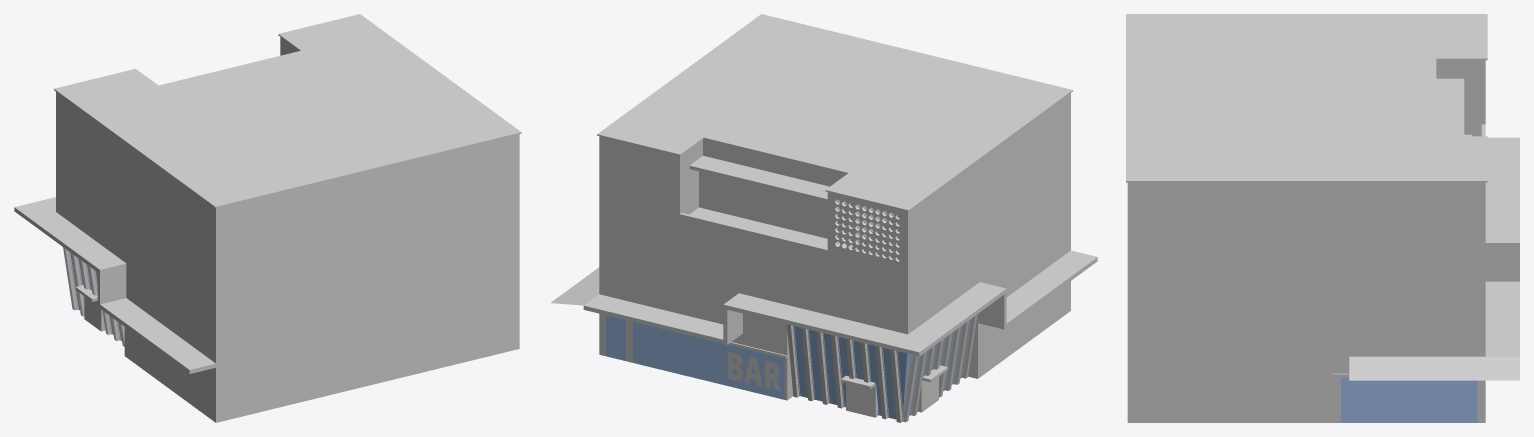
Rendered from bs_store_medium_05.glb.
The picture shows the model from 3 angles, left to right: view 1: azimuth 30°, elevation 25°; view 2: azimuth 150°, elevation 25°; view 3: azimuth 270°, elevation 25°; orthographic projection. The views are drawn at different scales.
Visible parts, largest first — view 1: exterior_walls-col, roof, entrance_roof-col, G-__614721; view 2: exterior_walls-col, roof, entrance_roof-col, bar_window-col, entrane_window-col, G-__614802, G-__614757, G-__614748, BAR, G-__614694, G-__614811, G-__614685 (+6 smaller); view 3: exterior_walls-col, roof, entrance_roof-col, bar_window-col, G-__614811, G-__614757.
Part boxes in pixels (x1,y1,x2,y2): exterior_walls-col: (56,37,519,422); roof: (54,14,521,208); entrance_roof-col: (14,197,215,373); G-__614721: (84,296,105,331); exterior_walls-col: (599,93,1070,400); roof: (597,14,1072,211); entrance_roof-col: (583,250,1097,356); bar_window-col: (599,313,784,399); entrane_window-col: (794,320,969,419); G-__614802: (627,151,650,299); G-__614757: (689,155,829,202); G-__614748: (689,207,852,248); BAR: (727,351,780,391); G-__614694: (890,349,917,422); G-__614811: (551,267,599,305); G-__614685: (846,383,878,417); exterior_walls-col: (1127,60,1485,422); roof: (1126,14,1487,182); entrance_roof-col: (1485,137,1519,356); bar_window-col: (1332,377,1485,422); G-__614811: (1349,356,1519,380); G-__614757: (1436,78,1464,136).
Size of the model in its own units: 27.5 by 15.7 by 23.1.
